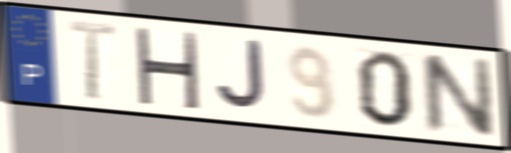0: (353, 49, 415, 130)
9: (286, 43, 339, 121)
H: (131, 24, 201, 112)
J: (213, 37, 269, 114)
N: (416, 51, 498, 140)
T: (65, 17, 119, 103)
